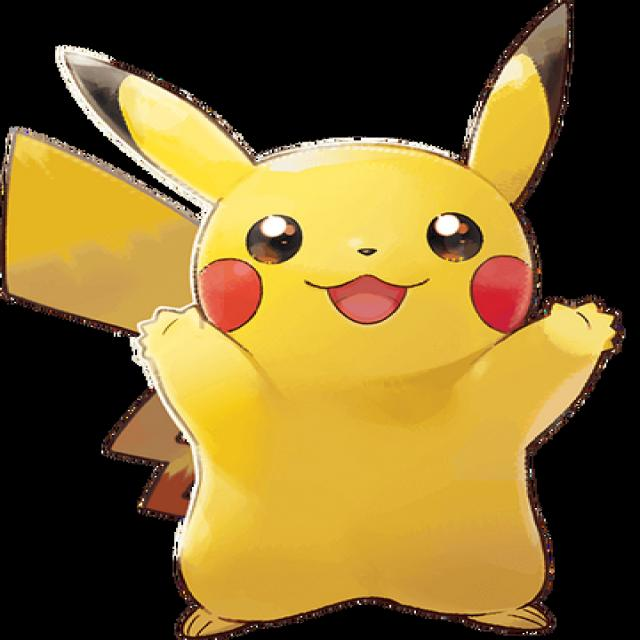Pikachu: (18, 26, 639, 640)
